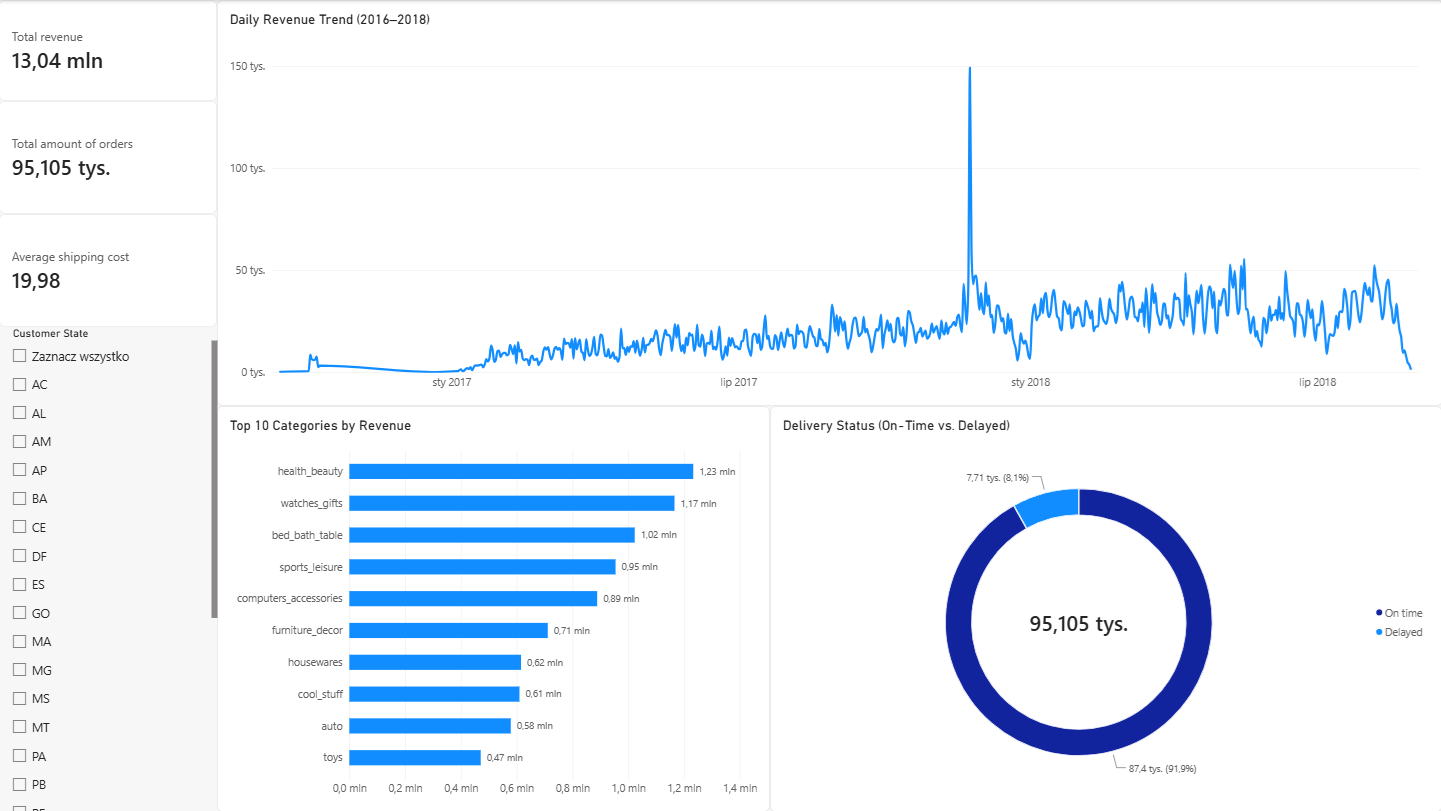

The dashboard page shown, as its layout file describes it:
{"tool":"powerbi","page":{"name":"Strona 1","canvas":[1920,1080],"ordinal":0},"visuals":[{"type":"cardVisual","fields":{"Data":["Sum(dashboard_data.revenue)"]},"box":[0,0,290.3,134.2],"z":0},{"type":"cardVisual","fields":{"Data":["Count(dashboard_data.order_id)"]},"box":[0,134.2,290.3,150.3],"z":1000},{"type":"cardVisual","fields":{"Data":["Avg(dashboard_data.shipping_cost)"]},"box":[0,284.5,290.3,150.3],"z":2000},{"type":"lineChart","title":"Daily Revenue Trend (2016–2018)","fields":{"Category":["dashboard_data.order_date"],"Y":["Sum(dashboard_data.revenue)"]},"box":[290.3,0,1629.7,539.8],"z":3000},{"type":"barChart","title":"Top 10 Categories by Revenue","fields":{"Category":["dashboard_data.category"],"Y":["Sum(dashboard_data.revenue)"]},"box":[290.3,539.8,735.3,539.8],"z":4000},{"type":"donutChart","title":"Delivery Status (On-Time vs. Delayed)","fields":{"Category":["dashboard_data.delivery_status"],"Y":["Count(dashboard_data.order_id)"]},"box":[1025.7,539.8,894.3,539.8],"z":5000},{"type":"slicer","fields":{"Values":["dashboard_data.customer_state"]},"box":[10.2,434.8,280.1,644.9],"z":5001}]}

Visuals, with their boxes in screenshot pixels (x1, y1, x2, y2), scaled from the page's 1920x1080 canvas onto the 1441x811 screenshot:
cardVisual - Sum(dashboard_data.revenue): x1=0 y1=0 x2=218 y2=101
cardVisual - Count(dashboard_data.order_id): x1=0 y1=101 x2=218 y2=214
cardVisual - Avg(dashboard_data.shipping_cost): x1=0 y1=214 x2=218 y2=327
"Daily Revenue Trend (2016–2018)" lineChart: x1=218 y1=0 x2=1440 y2=405
"Top 10 Categories by Revenue" barChart: x1=218 y1=405 x2=770 y2=810
"Delivery Status (On-Time vs. Delayed)" donutChart: x1=770 y1=405 x2=1440 y2=810
slicer - dashboard_data.customer_state: x1=8 y1=327 x2=218 y2=810
